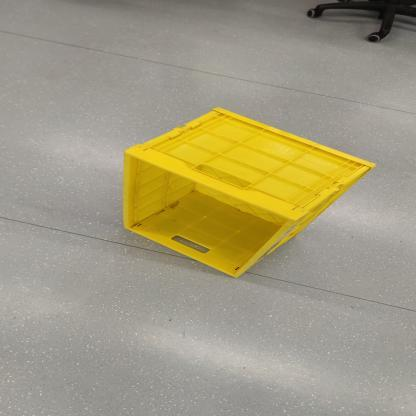-: (108, 95, 383, 303)
